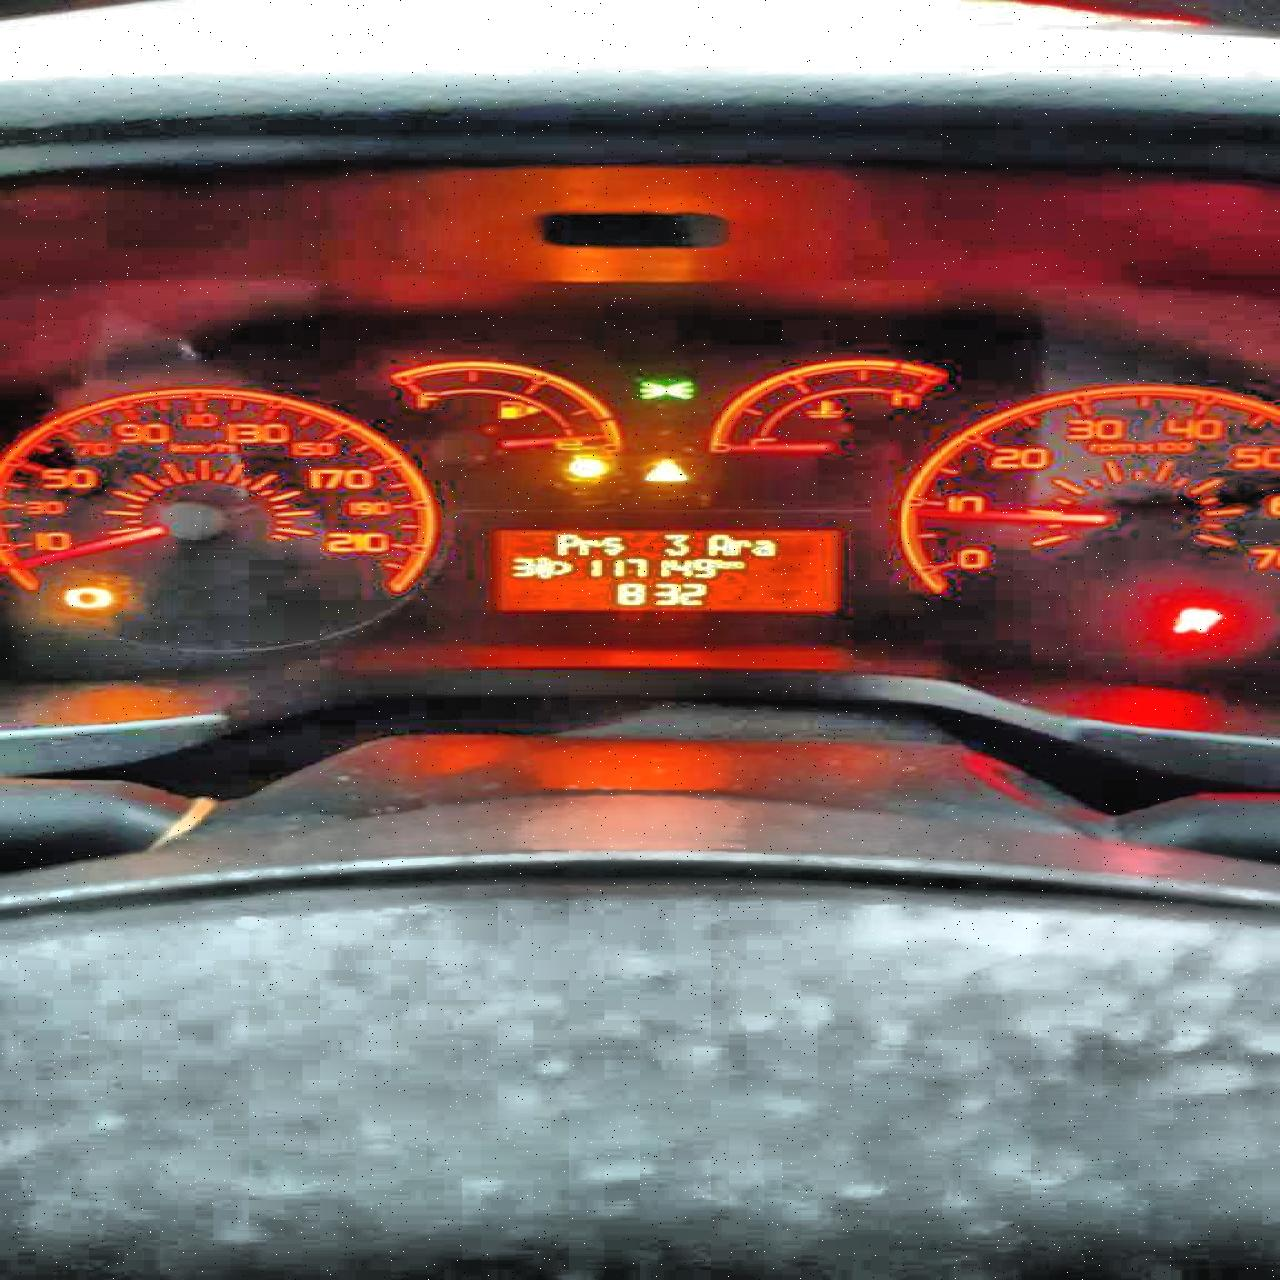1: (585, 558, 602, 578), (608, 557, 622, 578), (655, 558, 669, 577)
2: (678, 580, 709, 606)
3: (660, 531, 692, 557), (652, 580, 678, 606), (506, 557, 536, 578)
4: (669, 558, 689, 578)
7: (622, 554, 648, 576)
8: (611, 580, 647, 605)
9: (689, 558, 715, 578)
X: (702, 532, 731, 557), (553, 531, 578, 557), (600, 535, 625, 554), (751, 538, 776, 557), (578, 538, 600, 557), (729, 538, 751, 557), (727, 559, 744, 568), (715, 558, 729, 568)
odometer: (478, 525, 843, 617)
